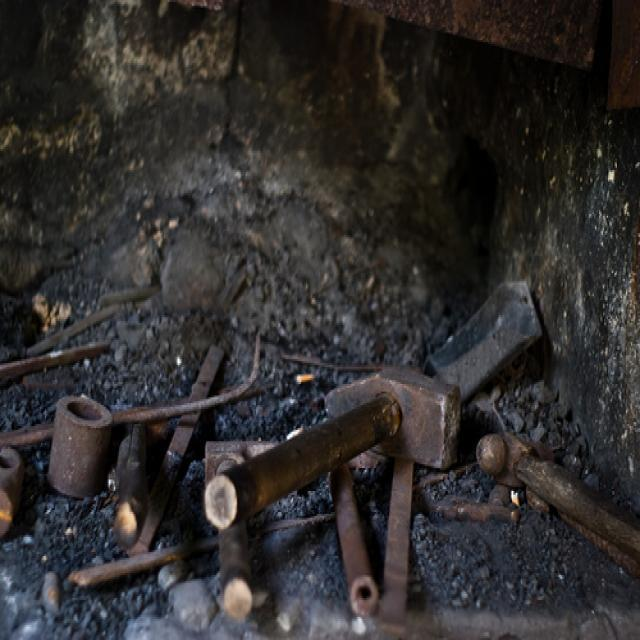hammer: (190, 359, 475, 531)
